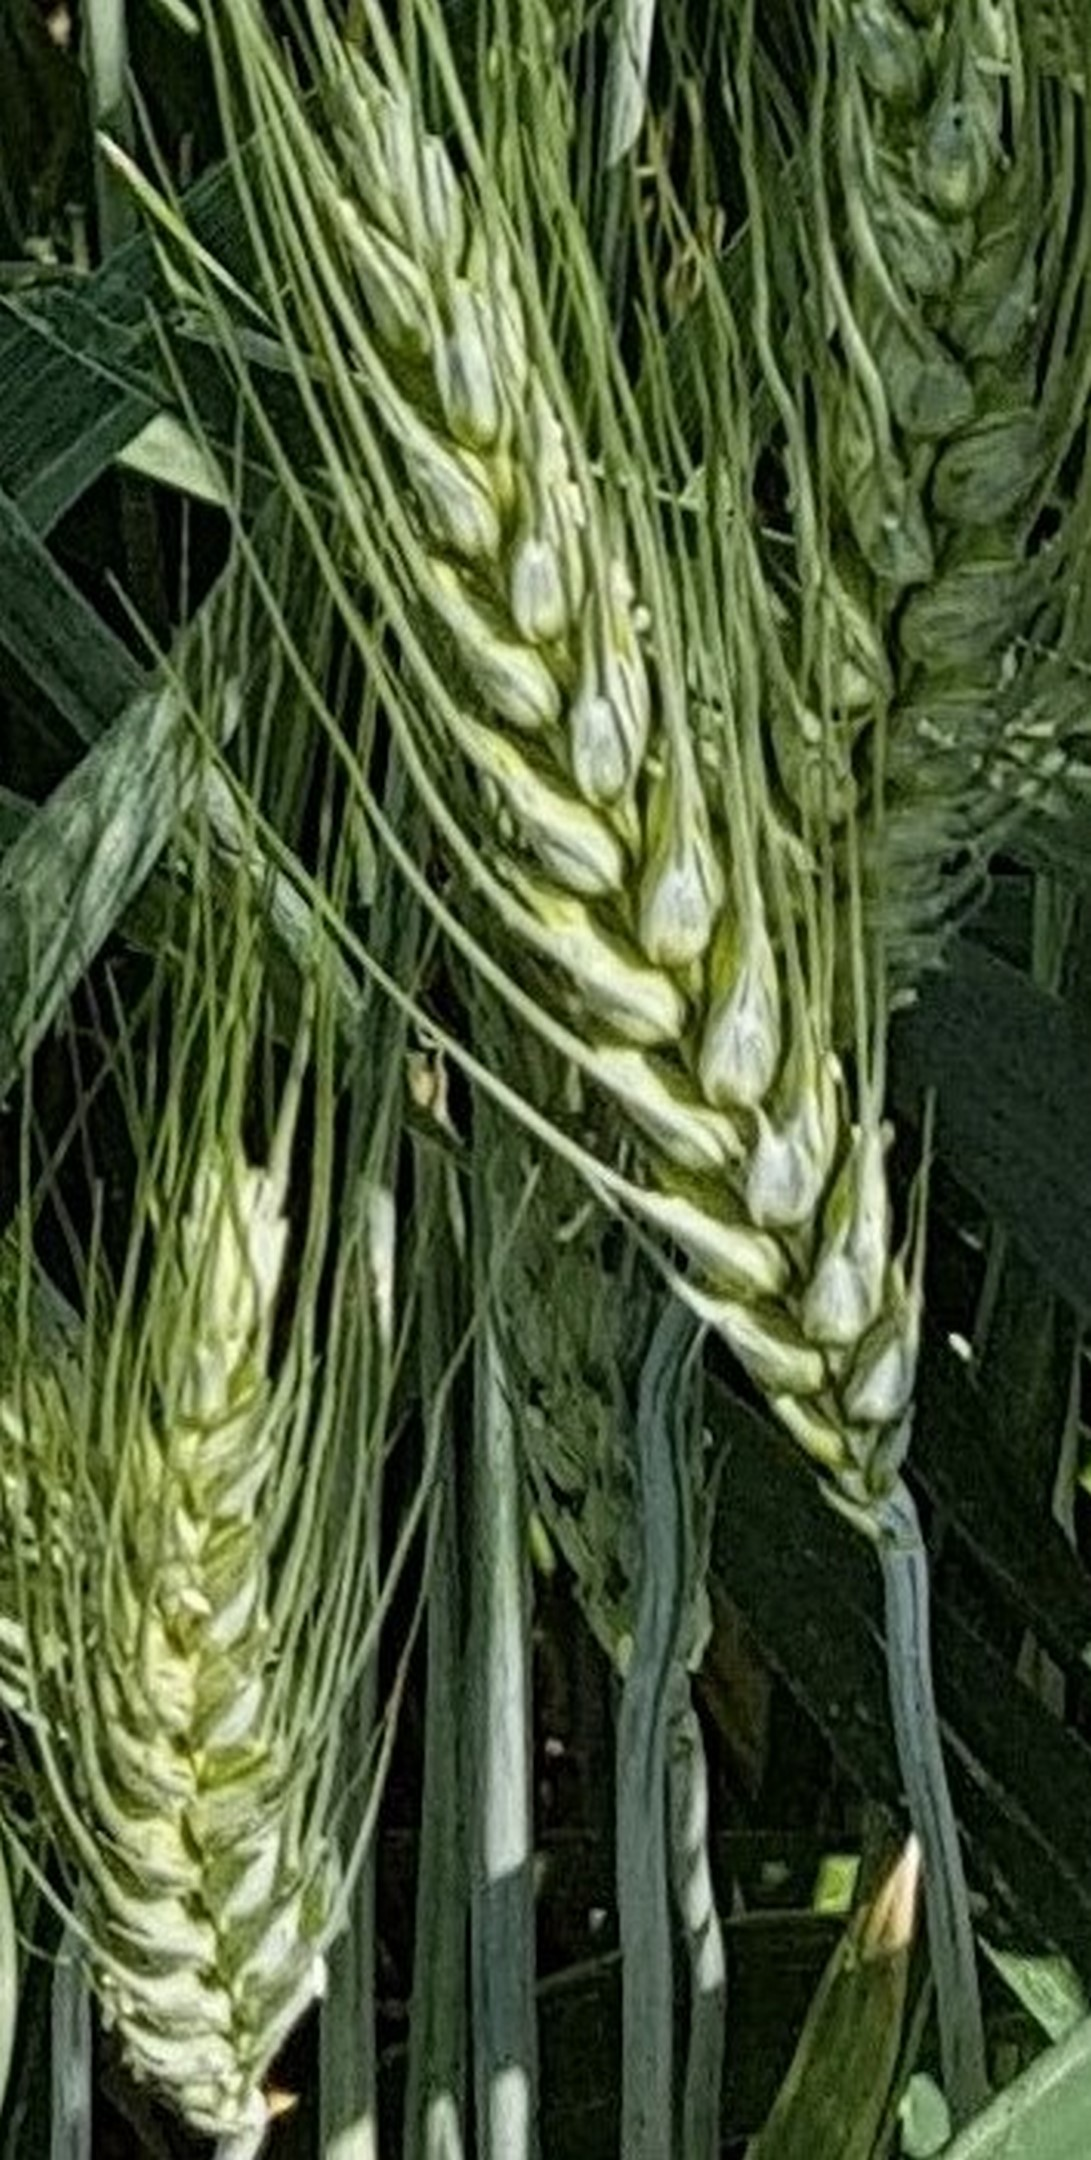Healthy Wheat: (271, 90, 996, 1490)
